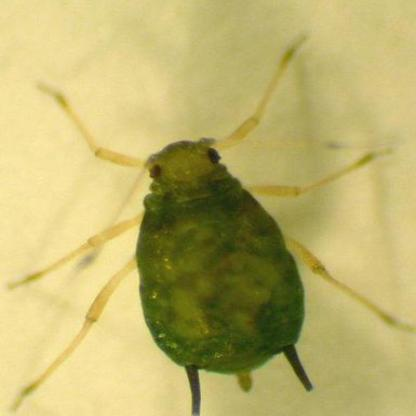aphid: (9, 30, 416, 415)
